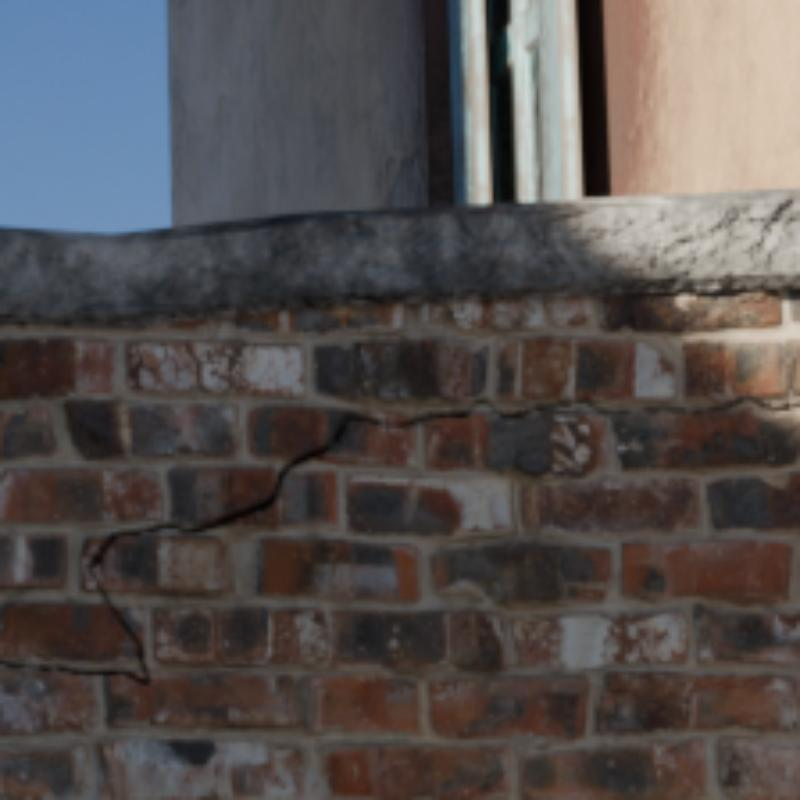pothole: (0, 414, 425, 682), (632, 396, 796, 411), (430, 396, 533, 418), (539, 396, 600, 411)
